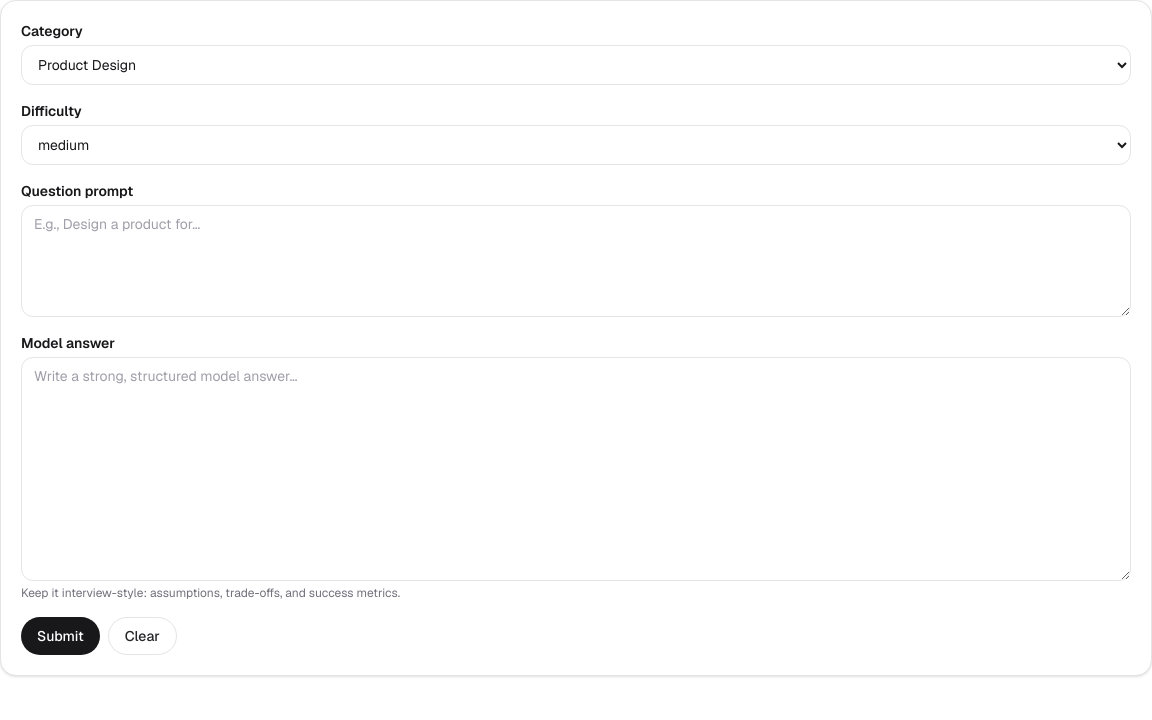
Test: SuggestForm › shows validation errors when fields are empty
The width and height of the screenshot is (1152, 720).
Click the button "Submit": x=60, y=636 [21,617,100,655]
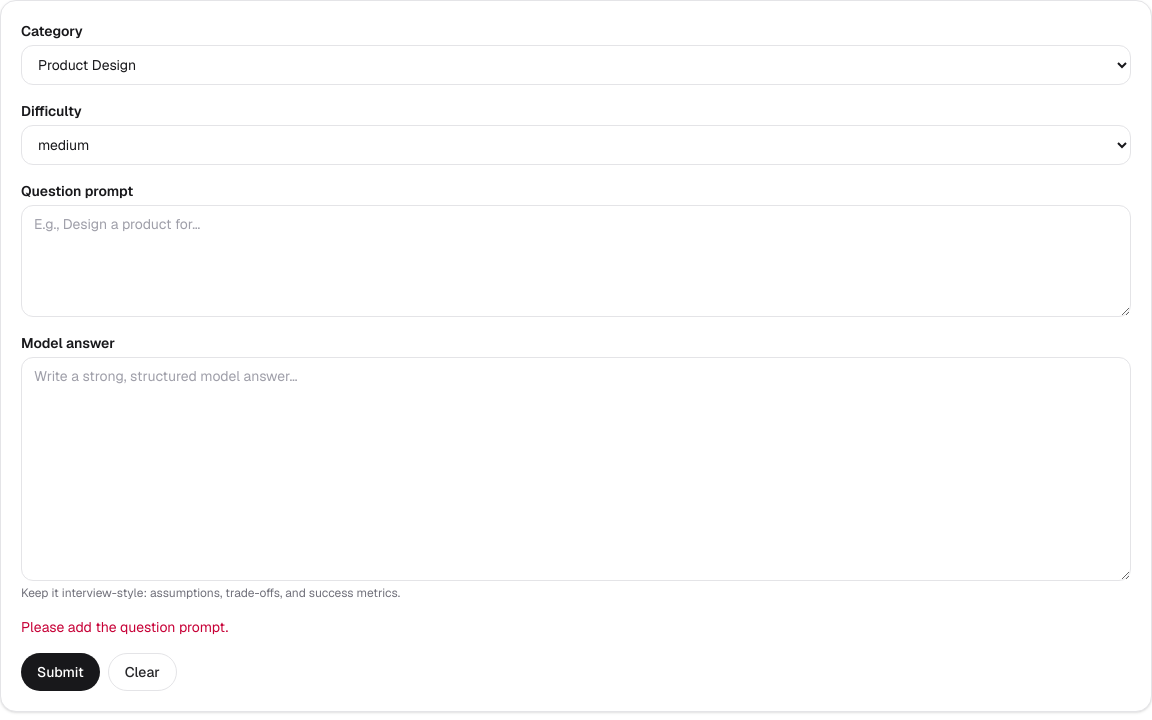
expect the text "Please add the question prompt." is shown: met, box [21,618,228,636]
